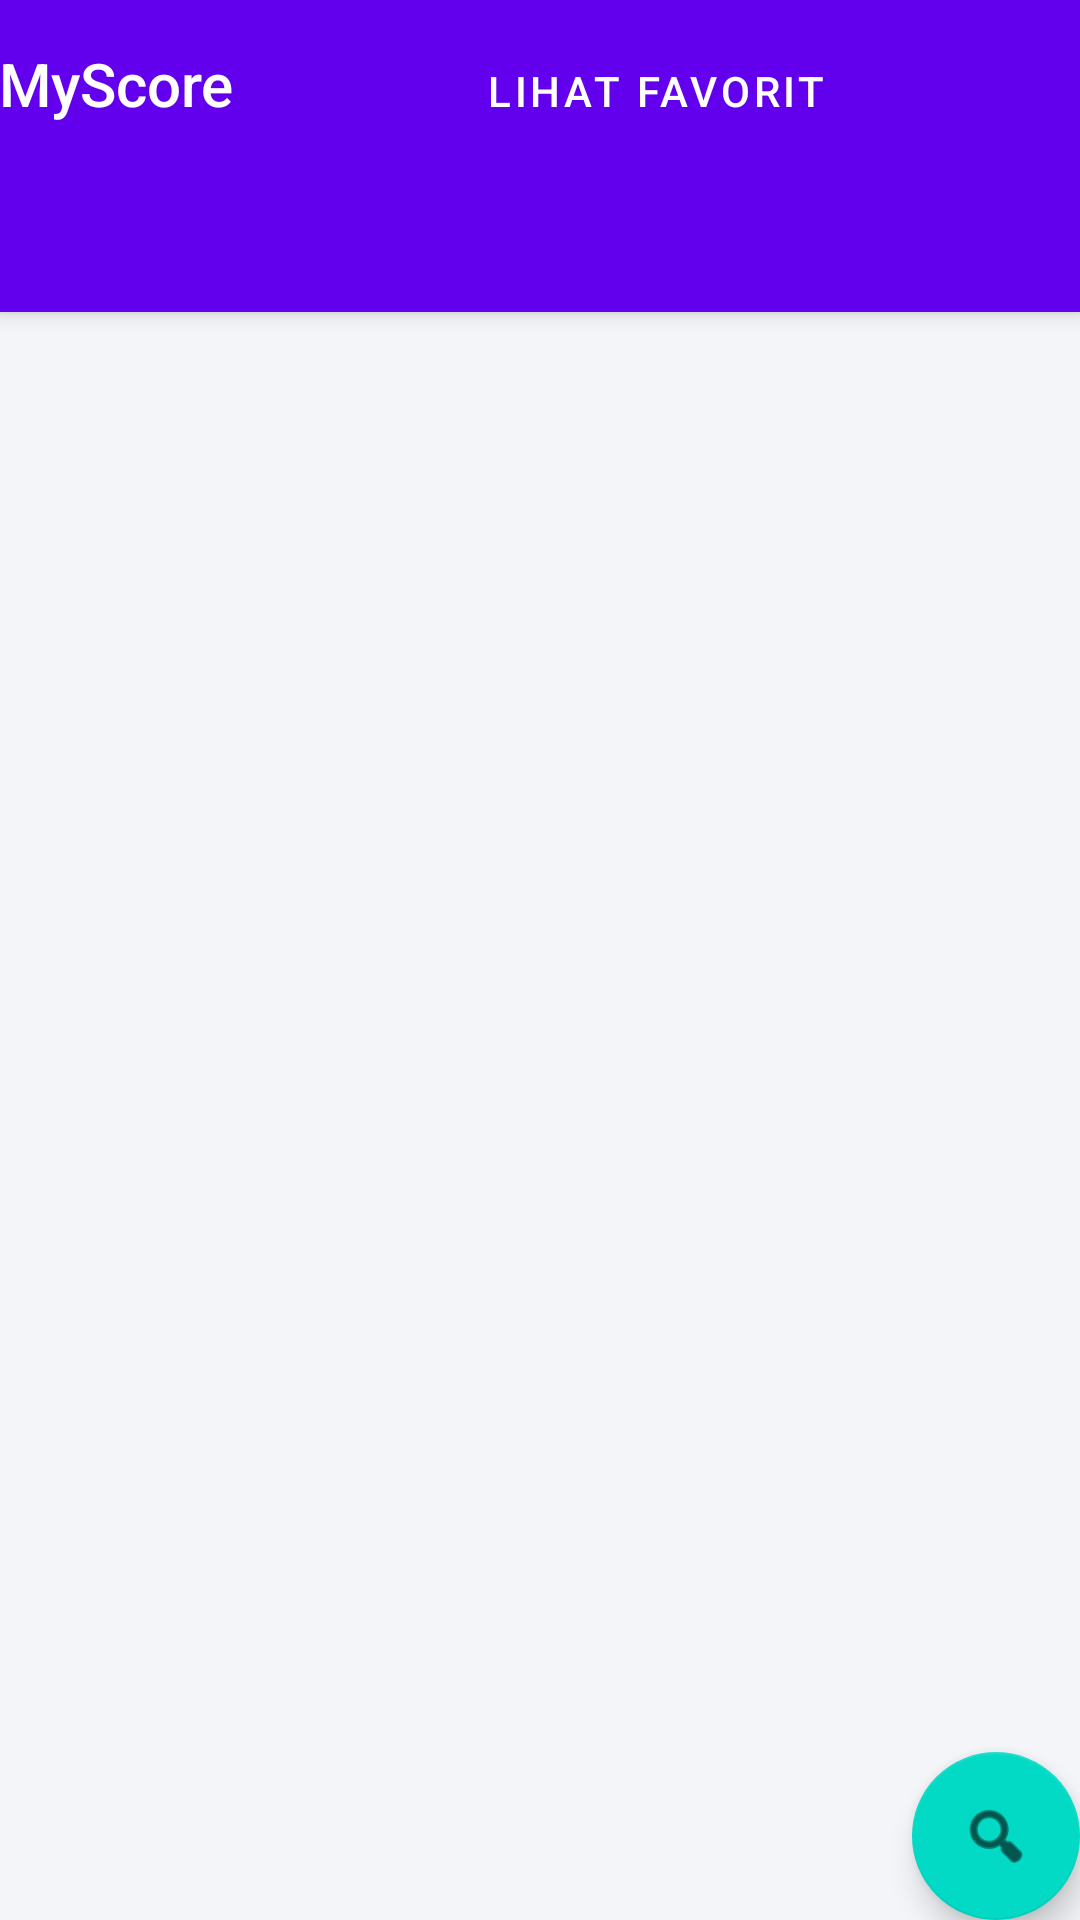

Locate icon controls on the screen. Image size 1080x1920, boxes as (left=x1, top=y1, right=x2, bottom=y2).
search: (left=912, top=1752, right=1080, bottom=1920)
